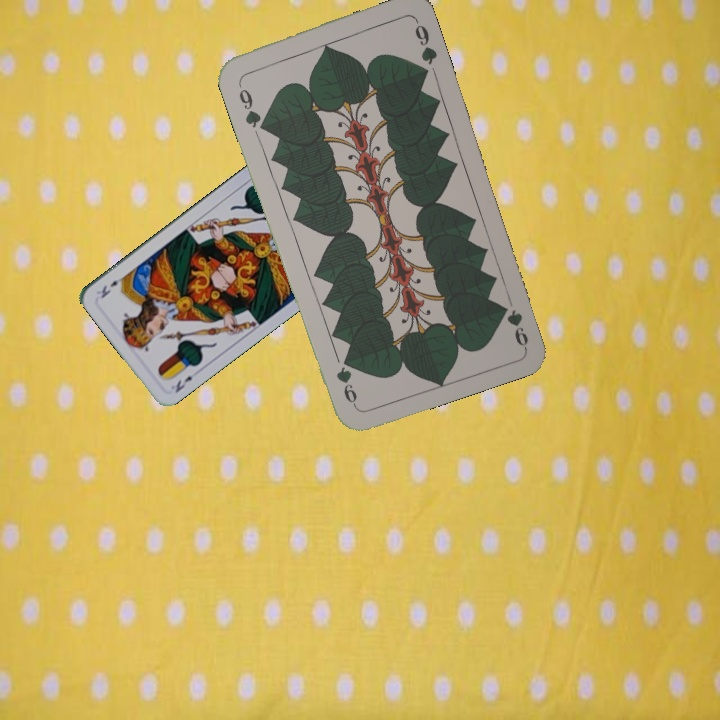EK: (171, 372, 195, 395)
G9: (233, 77, 267, 132), (497, 300, 531, 349)
